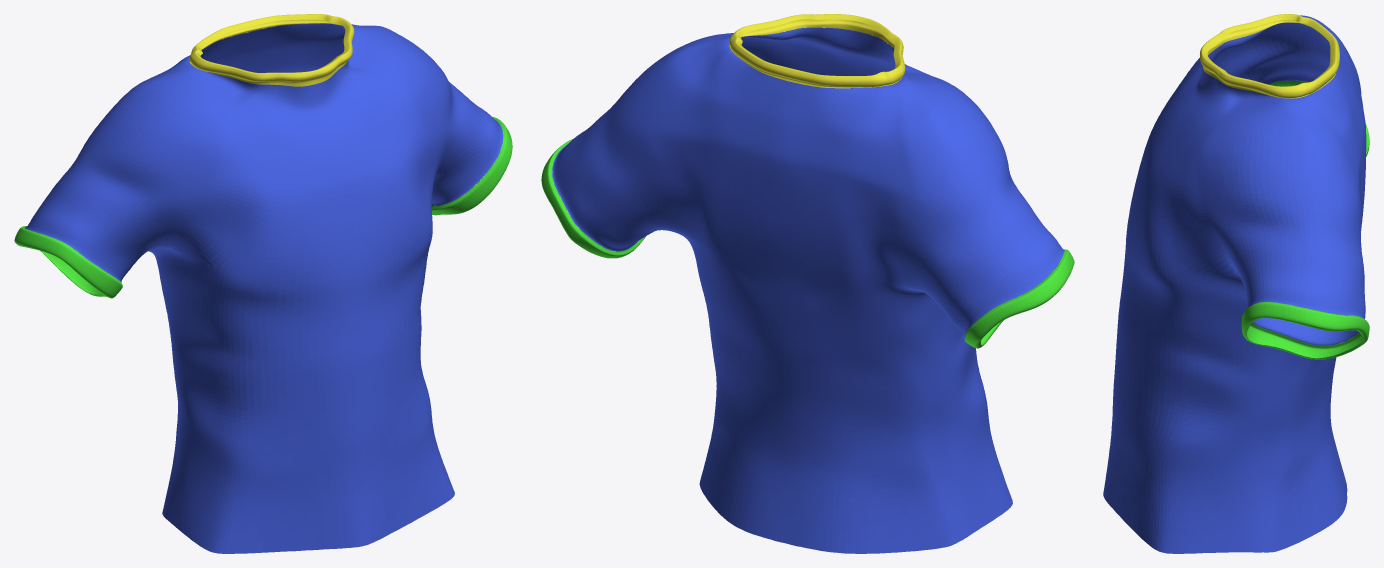
Rendered from tshirt.glb.
The picture shows the model from 3 angles, left to right: view 1: azimuth 30°, elevation 25°; view 2: azimuth 150°, elevation 25°; view 3: azimuth 270°, elevation 25°; orthographic projection. The views are drawn at different scales.
Visible parts, largest first — view 1: T-shirt; view 2: T-shirt; view 3: T-shirt.
Part boxes in pixels (x1=…): T-shirt: x1=14, y1=14, x2=512, y2=553; T-shirt: x1=541, y1=14, x2=1074, y2=553; T-shirt: x1=1103, y1=14, x2=1369, y2=553.
Size of the model in its own units: 2.44 by 2.15 by 1.16.
